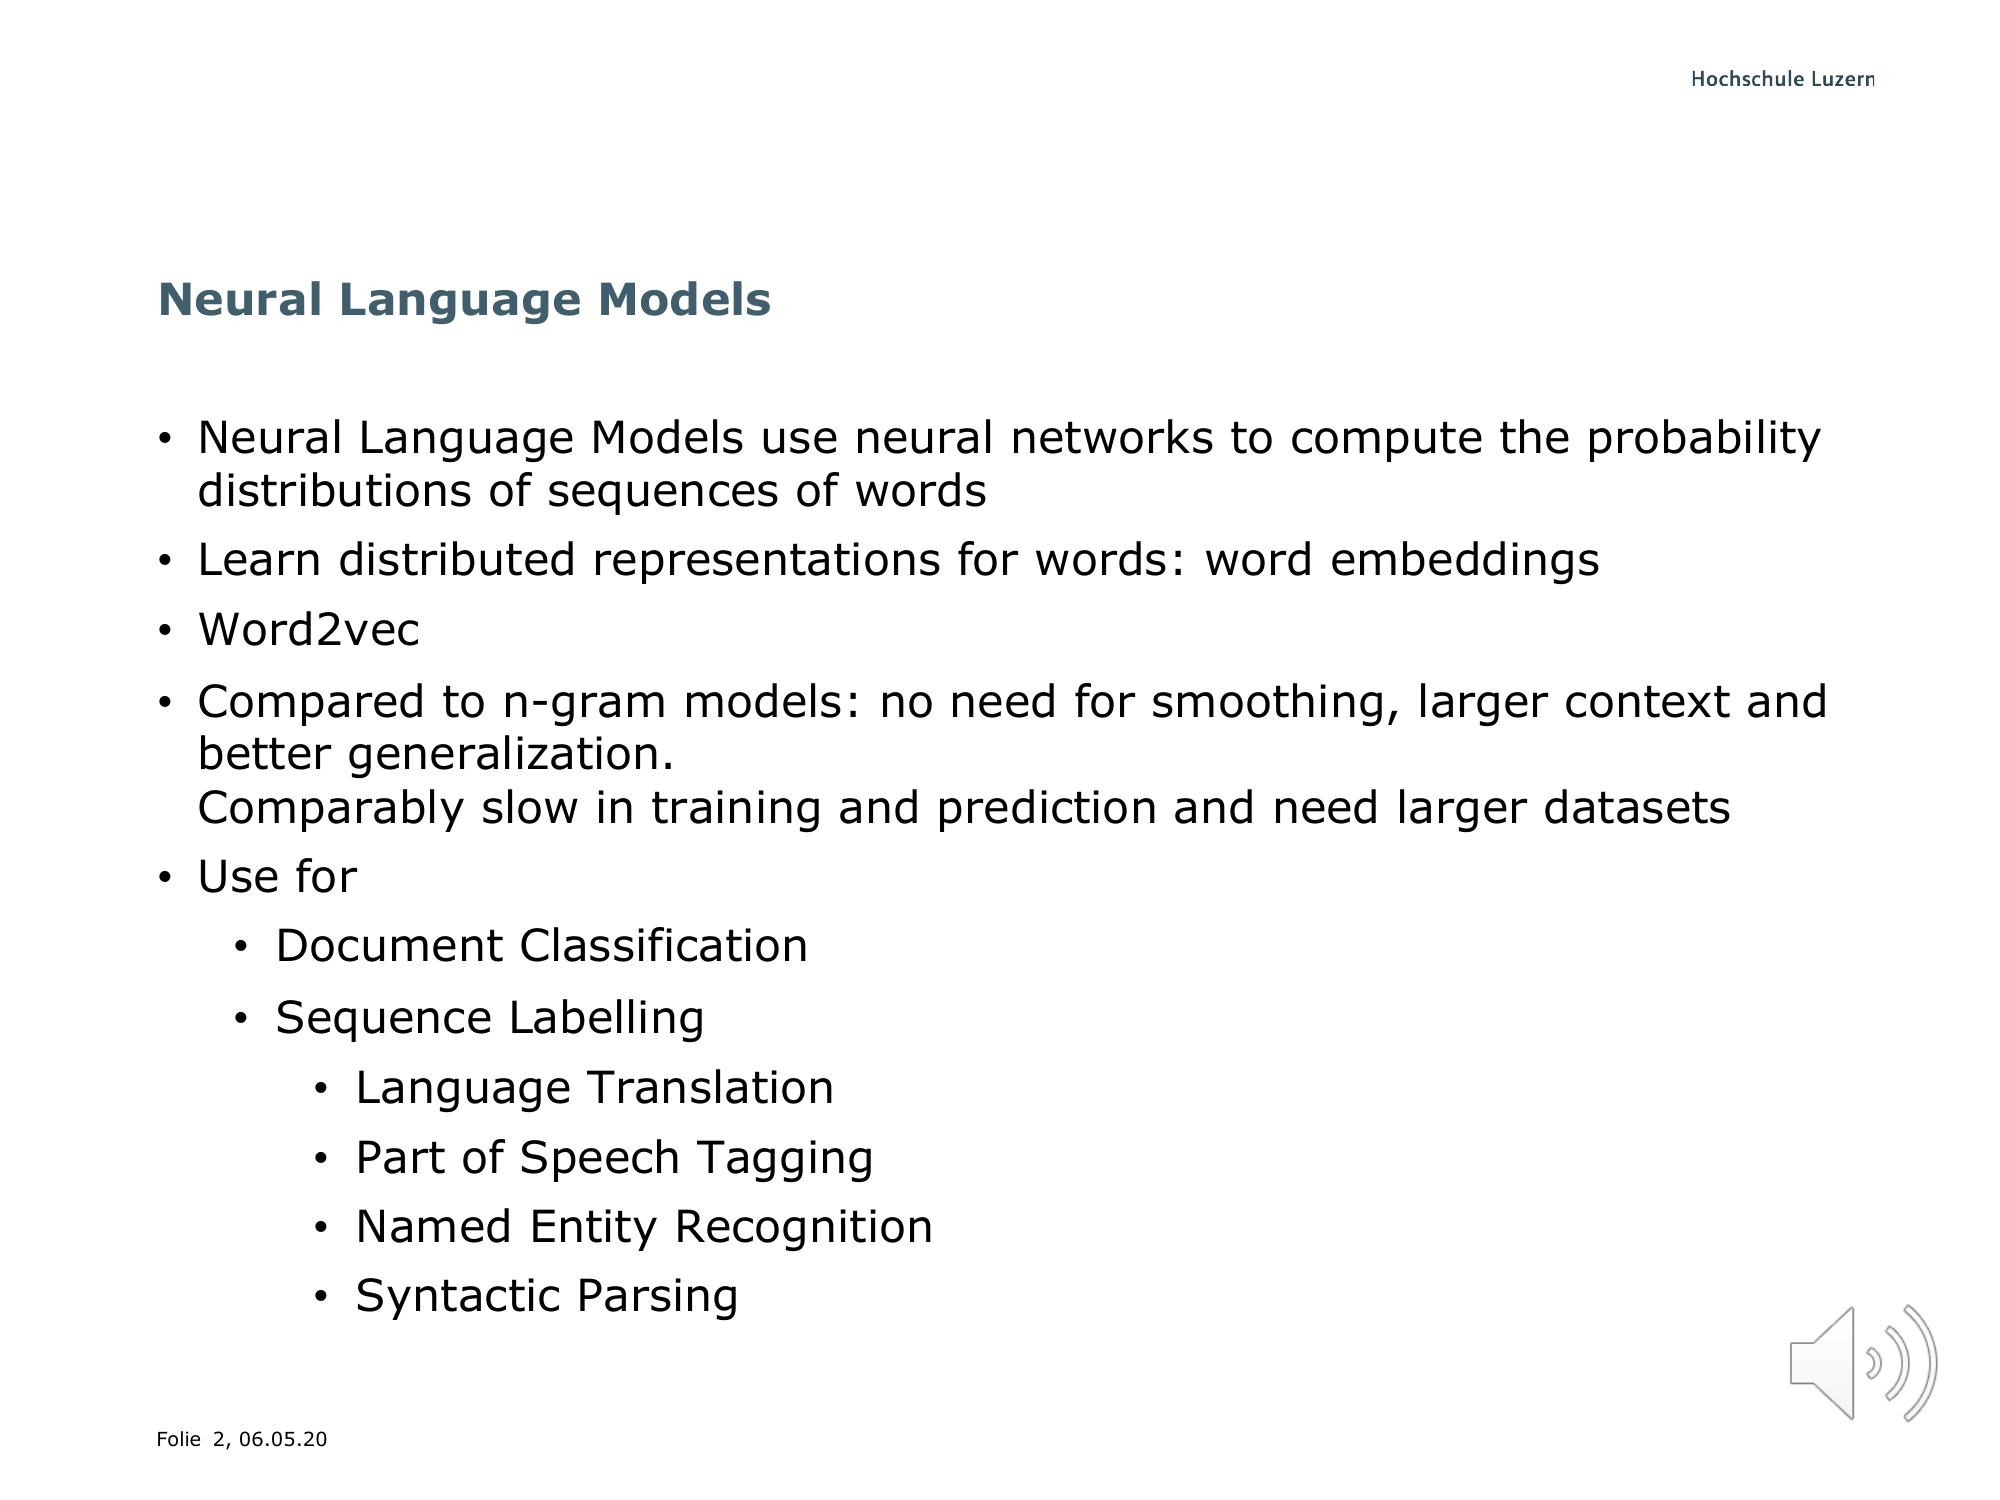Title: (153, 273, 780, 342)
